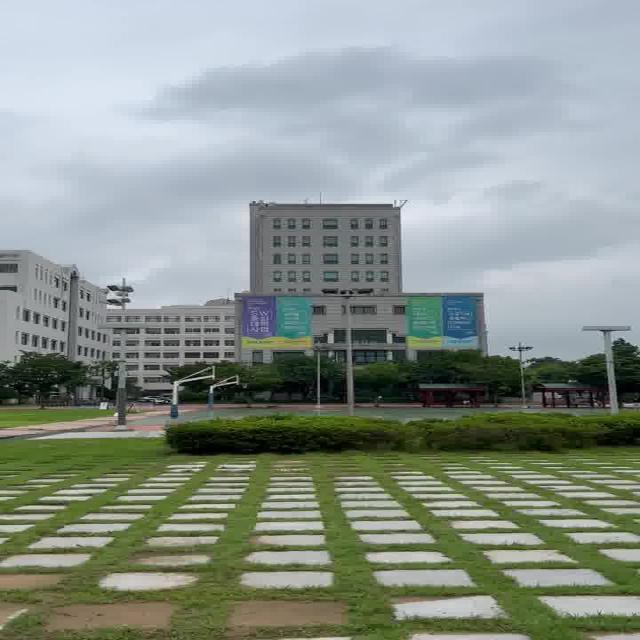building: (240, 201, 423, 297)
